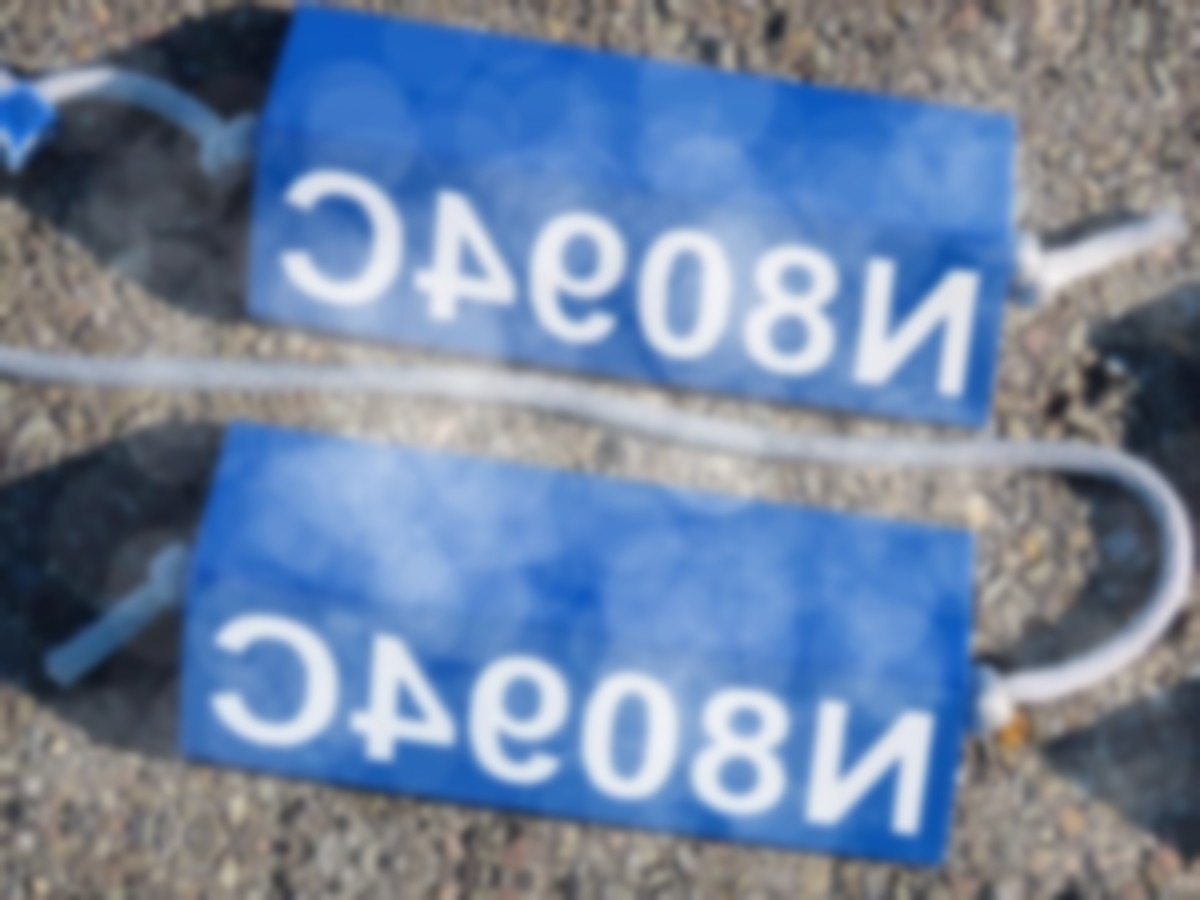chock: (146, 404, 1015, 886), (221, 0, 1055, 438)
